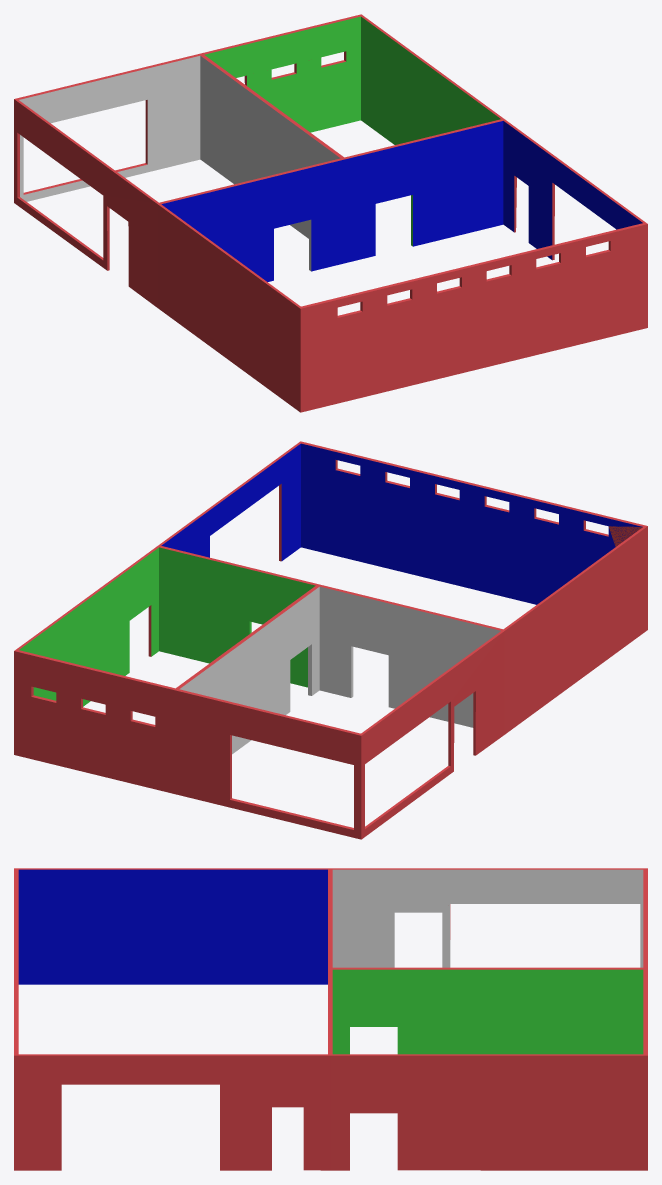
File: gebaeude-angepasst.fbx
3 views of the same model, one above another, from view 1: azimuth 30°, elevation 25°; view 2: azimuth 150°, elevation 25°; view 3: azimuth 270°, elevation 25° (orthographic). The views are drawn at different scales.
Visible parts, largest first — view 1: gebaude_aussen, Lager Innenwand, Innenwand Verkauf Werkstatt; view 2: gebaude_aussen, Lager Innenwand, Innenwand Verkauf Werkstatt; view 3: gebaude_aussen, Innenwand Verkauf Werkstatt, Lager Innenwand.
Part boxes in pixels (box(x1,y1,x2,y2)): gebaude_aussen: box(14, 14, 647, 412); Lager Innenwand: box(159, 119, 504, 281); Innenwand Verkauf Werkstatt: box(200, 54, 343, 238); gebaude_aussen: box(14, 441, 647, 839); Lager Innenwand: box(158, 546, 503, 727); Innenwand Verkauf Werkstatt: box(176, 585, 319, 754); gebaude_aussen: box(14, 868, 647, 1170); Innenwand Verkauf Werkstatt: box(330, 967, 645, 1054); Lager Innenwand: box(328, 869, 332, 1054).
Size of the model in its own units: 1401 by 400 by 2000.
